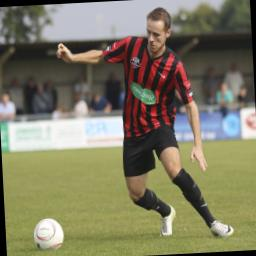football: (32, 218, 64, 252)
